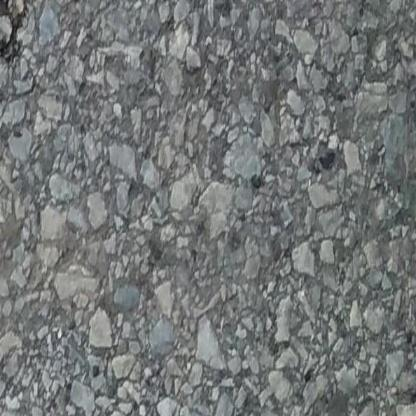Cracks: (0, 0, 41, 88), (0, 92, 11, 141)
